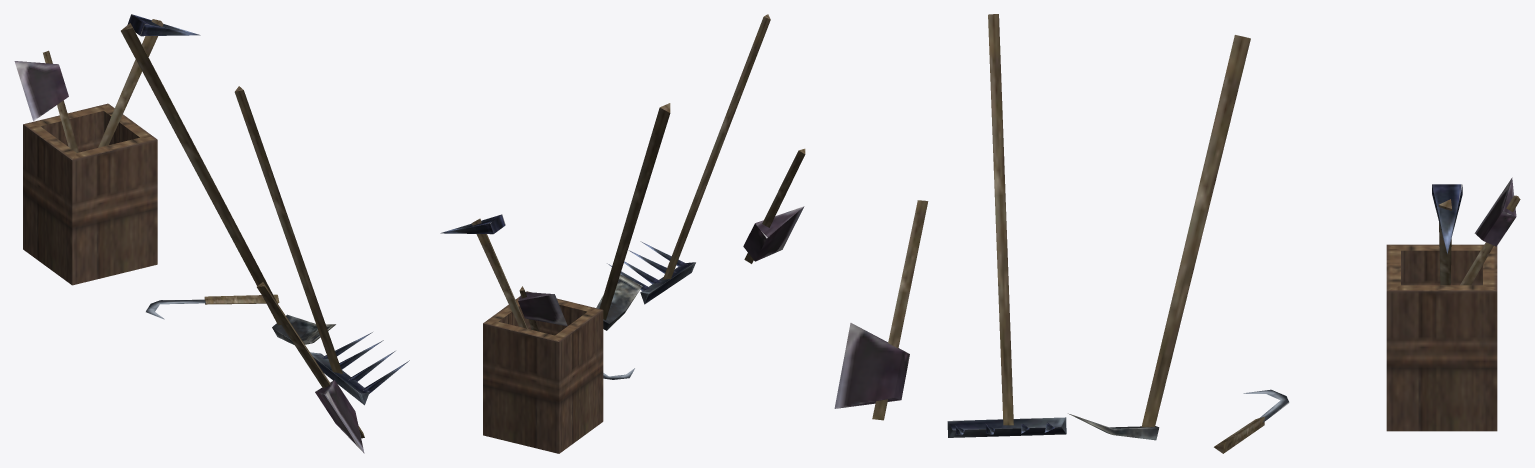
The model's file is nongju_tyc_20.FBX.
3 views of the same model, side by side, from view 1: azimuth 30°, elevation 25°; view 2: azimuth 150°, elevation 25°; view 3: azimuth 270°, elevation 25° (orthographic). The views are drawn at different scales.
Parts seen in each view (by area): view 1: nongju_tyc_11; view 2: nongju_tyc_11; view 3: nongju_tyc_11.
Part boxes in pixels (left/top/right/bottom): nongju_tyc_11: left=14, top=14, right=409, bottom=453; nongju_tyc_11: left=440, top=14, right=805, bottom=453; nongju_tyc_11: left=834, top=14, right=1520, bottom=453.
Bounding box in the file's own units: 85.24 × 152 × 255.
